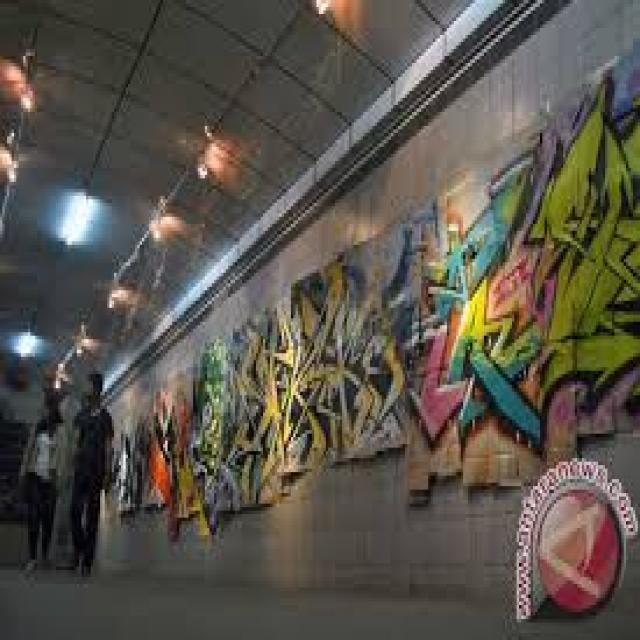-: (411, 74, 640, 454), (225, 262, 409, 499), (121, 349, 222, 534)
